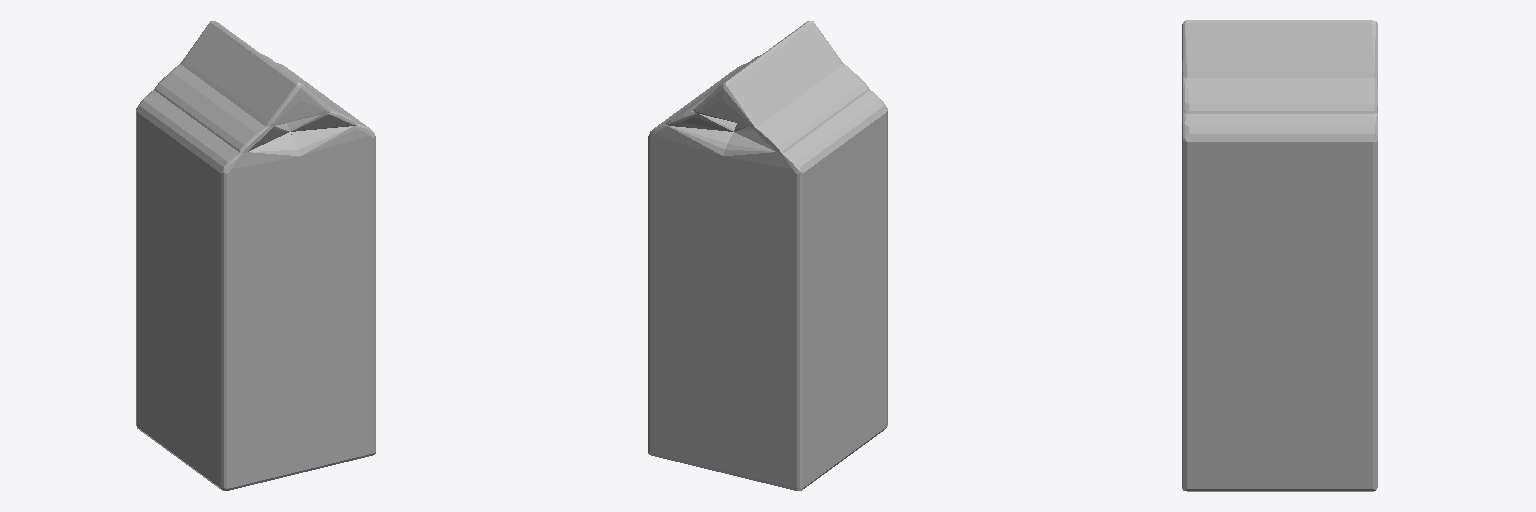
The robot description file, URDF, robot "root":
<?xml version="1.0"?>
<robot name="root">
  <link name="base_link">
    <visual>
      <origin xyz="0 0 0" rpy="0 0 0" />
      <geometry>
        <mesh filename="../meshes/unidex_sem_MilkCarton-357348cf087fb03898feb9a919eb17de_008.obj" scale="1.0000E+00 1.0000E+00 1.0000E+00" />
      </geometry>
      <material name="">
        <color rgba="7.50E-01 7.50E-01 7.50E-01 1" />
      </material>
    </visual>
    <collision>
      <origin xyz="0 0 0" rpy="0 0 0" />
      <geometry>
        <mesh filename="../meshes/unidex_sem_MilkCarton-357348cf087fb03898feb9a919eb17de_008.obj" scale="1.0000E+00 1.0000E+00 1.0000E+00" />
      </geometry>
    </collision>
  </link>
</robot>

--- What the picture shows (computed from the rendered views, not written in the file) ---
3 views of the same robot in one strip: view 1: azimuth 30°, elevation 25°; view 2: azimuth 150°, elevation 25°; view 3: azimuth 270°, elevation 25° (orthographic).
Robot: root — 1 links, 0 joints (none); root link base_link; default pose: all joints at 0.
Links seen in each view (by area): view 1: base_link; view 2: base_link; view 3: base_link.
Link boxes in pixels (<box>): base_link: <box>136,21,375,490</box>; base_link: <box>648,21,887,490</box>; base_link: <box>1182,20,1377,491</box>.
Size in the robot's own frame: 0.0563 by 0.0563 by 0.1363 metres.
Meshes: 1 distinct files referenced, 1 mesh visuals loaded (1 OBJ).
